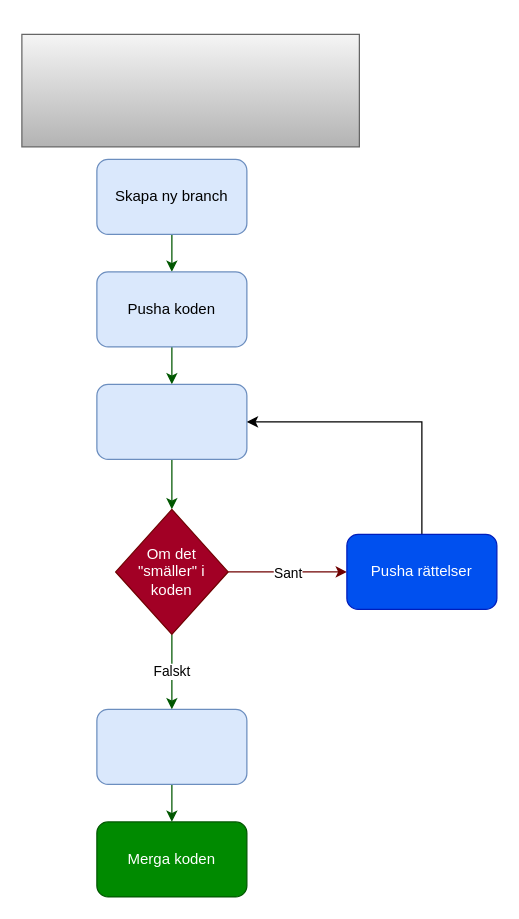
Image size: 519x919. Some labels were removed from this diagram. Each missing label, with the centre of its shape:
"Automatiserad bygg och test" belongs at (x=171, y=421).
"Nils & Gurras CI-graf" belongs at (x=190, y=90).
"Reviewa koden" belongs at (x=171, y=746).
